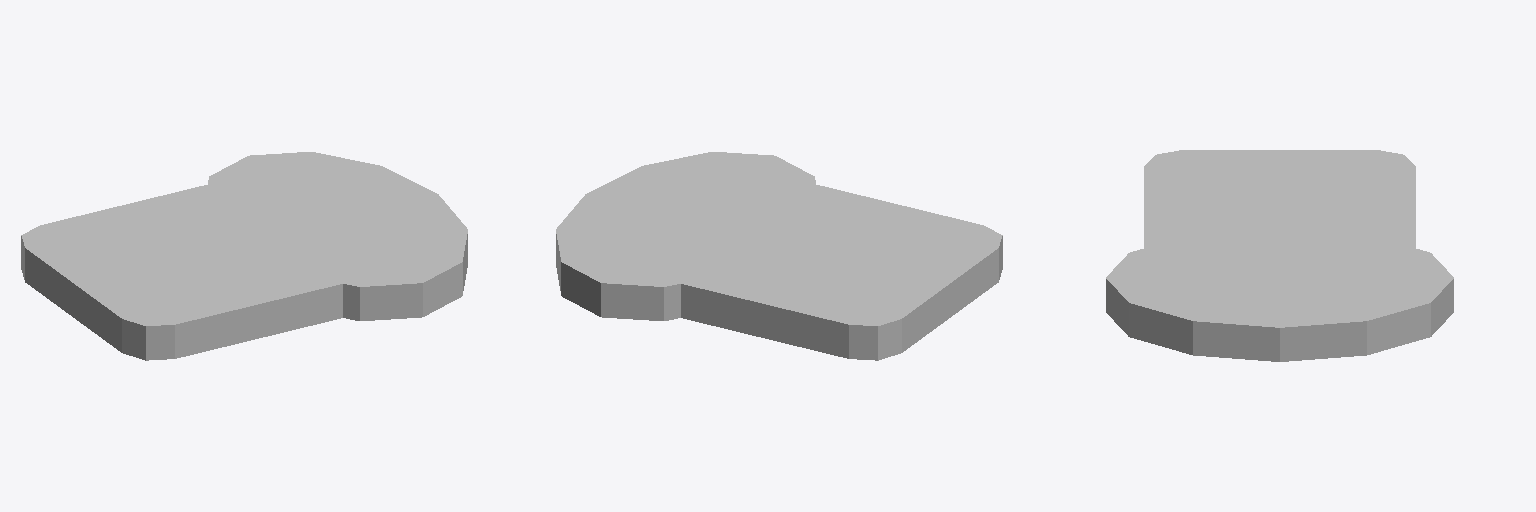
File: bread.obj
3 renders of one model, left to right at view 1: azimuth 30°, elevation 25°; view 2: azimuth 150°, elevation 25°; view 3: azimuth 270°, elevation 25°, orthographic.
Parts seen in each view (by area): view 1: bread; view 2: bread; view 3: bread.
Boxes of the visible parts, box(x1,y1,x2,y2) form: bread: box(21, 152, 467, 360); bread: box(556, 152, 1002, 360); bread: box(1106, 150, 1453, 361).
Size of the model in its own units: 0.4423 by 0.0397 by 0.3659.